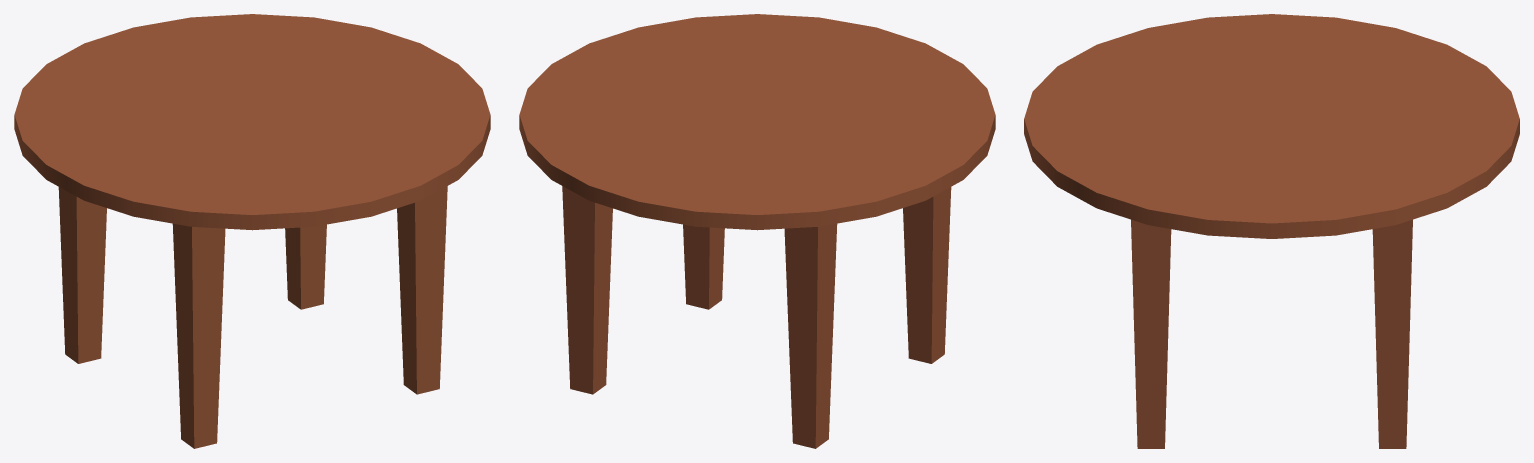
The model's file is table.fbx.
3 renders of one model, left to right at view 1: azimuth 30°, elevation 25°; view 2: azimuth 150°, elevation 25°; view 3: azimuth 270°, elevation 25°, orthographic. The views are drawn at different scales.
Parts seen in each view (by area): view 1: Table; view 2: Table; view 3: Table.
Boxes of the visible parts, box(x1,y1,x2,y2) form: Table: box(14, 14, 490, 448); Table: box(519, 14, 995, 448); Table: box(1024, 14, 1519, 448).
Bounding box in the file's own units: 142 × 142 × 84.63.
